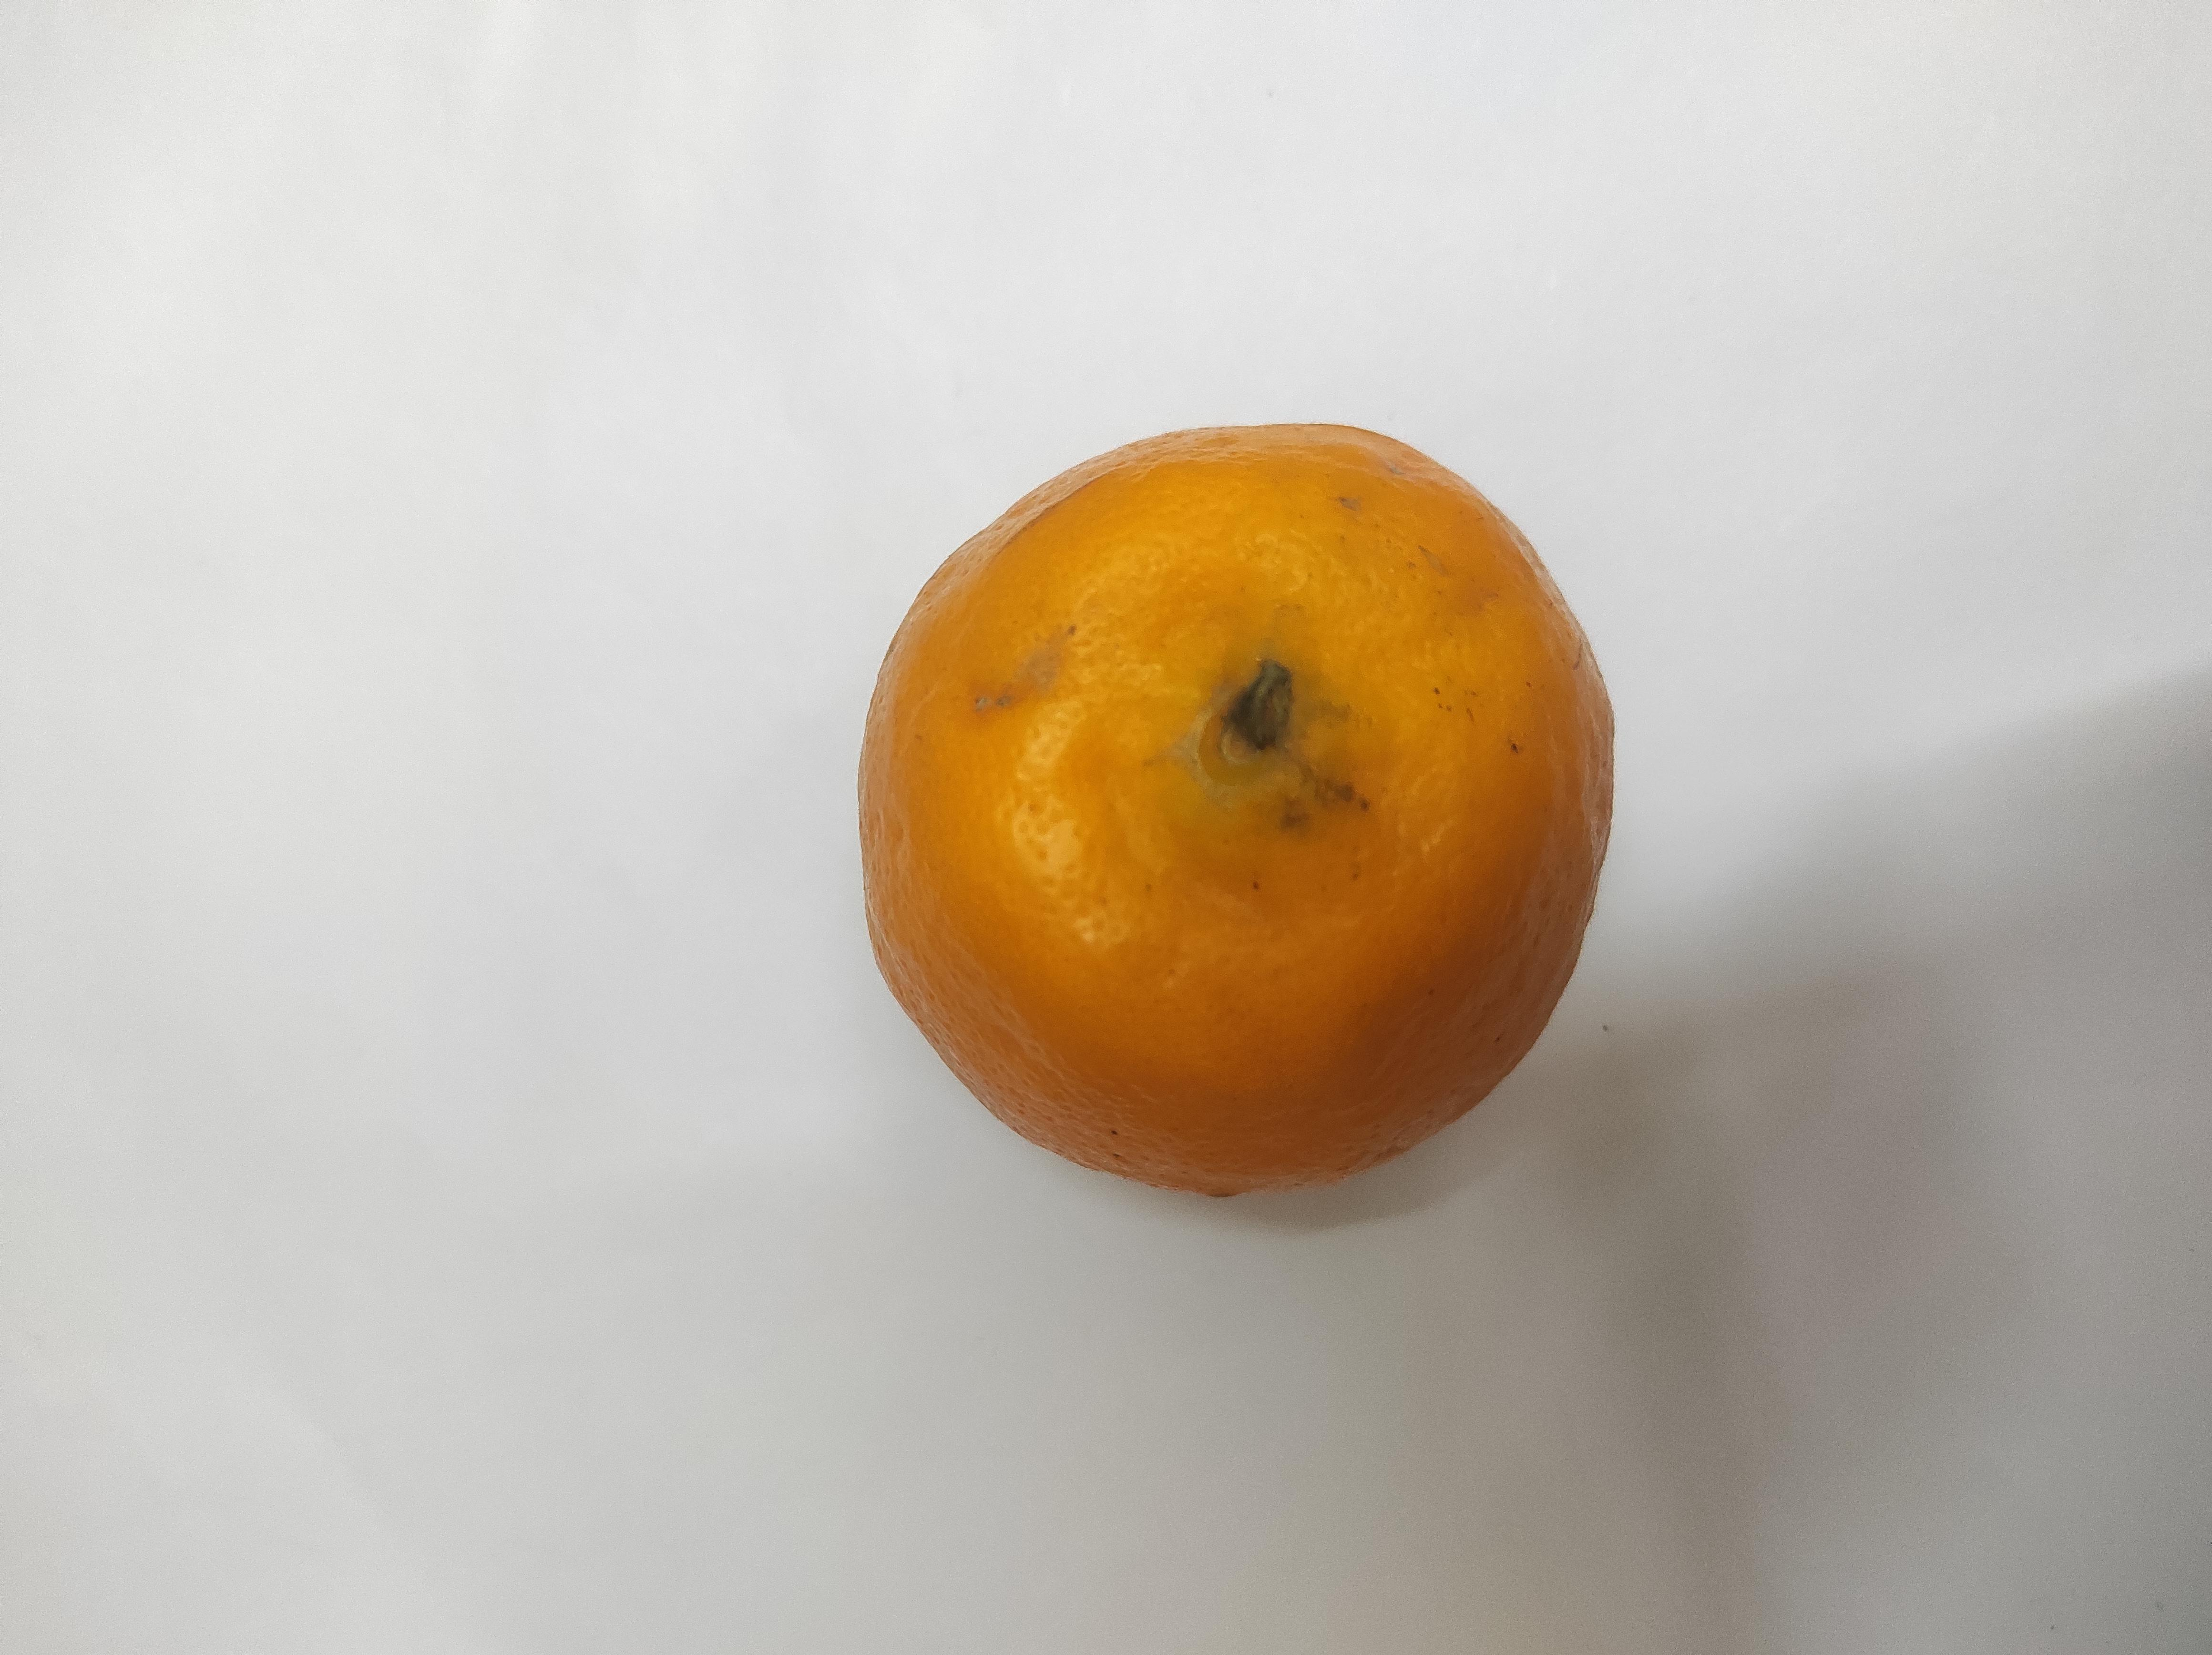Unripe: (868, 435, 1621, 1187)
